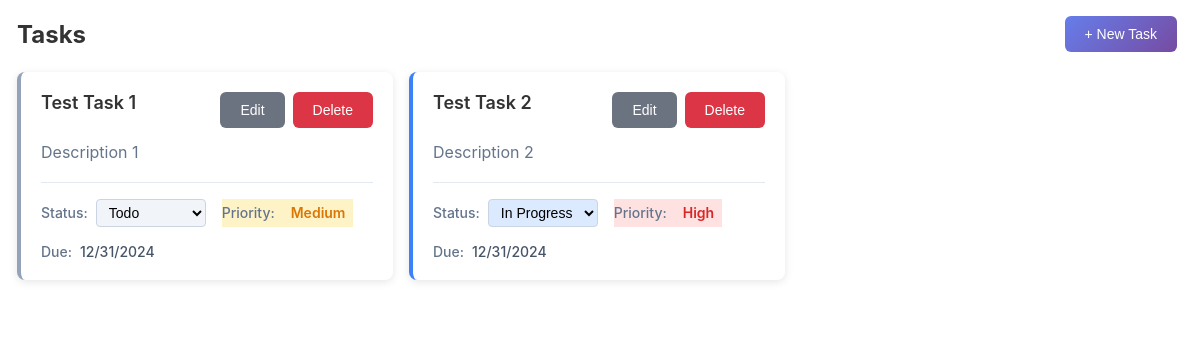
Scenario: TaskList › handles delete error
Expected: the heading "Test Task 1" is shown, [41,92,136,113]
What coordinates should you click on to do the following:
click the button "Delete" in the row of "Test Task 1"
I would click on:
 (333, 110)
Its box is [292,92,373,128].
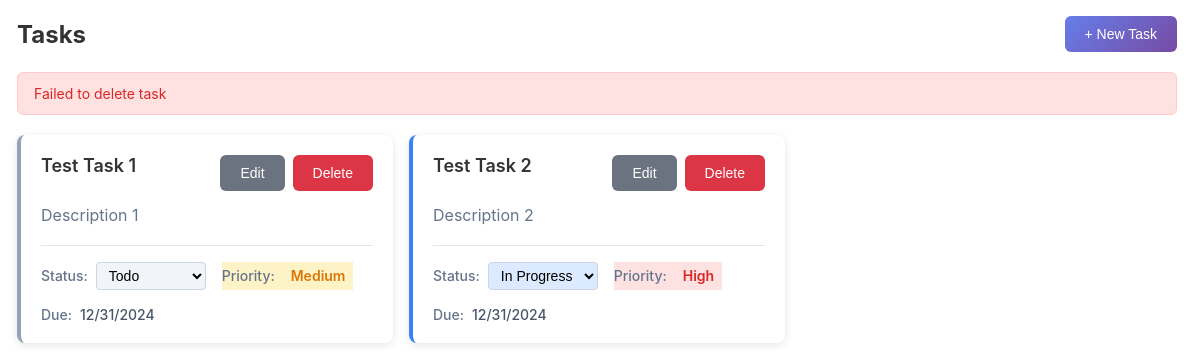
Expected: the text "Failed to delete task" is shown, [17,72,1177,115]
